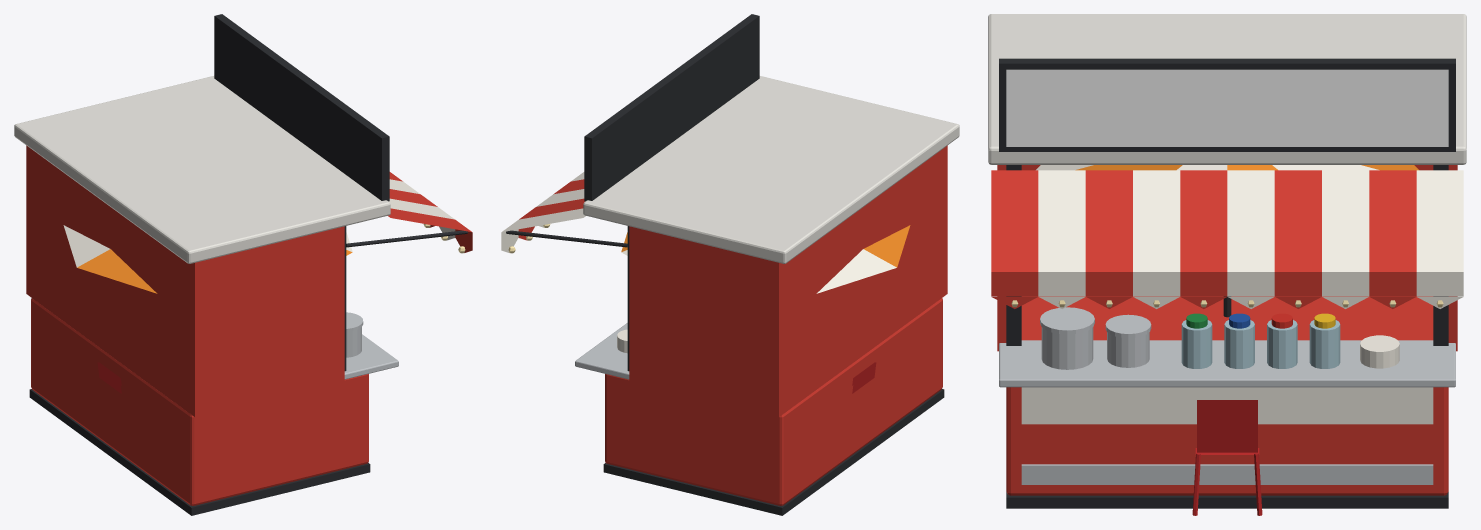
The model's file is riverfront.glb.
3 renders of one model, left to right at view 1: azimuth 30°, elevation 25°; view 2: azimuth 150°, elevation 25°; view 3: azimuth 270°, elevation 25°, orthographic. The views are drawn at different scales.
Visible parts, largest first — view 1: Kiosk, Parasol; view 2: Kiosk, Parasol; view 3: Kiosk, Table, Parasol.
Boxes of the visible parts, bbox=[...] form: Kiosk: bbox=[14, 14, 472, 515]; Parasol: bbox=[63, 225, 352, 293]; Kiosk: bbox=[501, 14, 959, 515]; Parasol: bbox=[621, 225, 910, 293]; Kiosk: bbox=[988, 14, 1466, 508]; Table: bbox=[1192, 400, 1262, 515]; Parasol: bbox=[1036, 165, 1418, 317].
Bounding box in the file's own units: 3.21 × 3.32 × 3.14.
